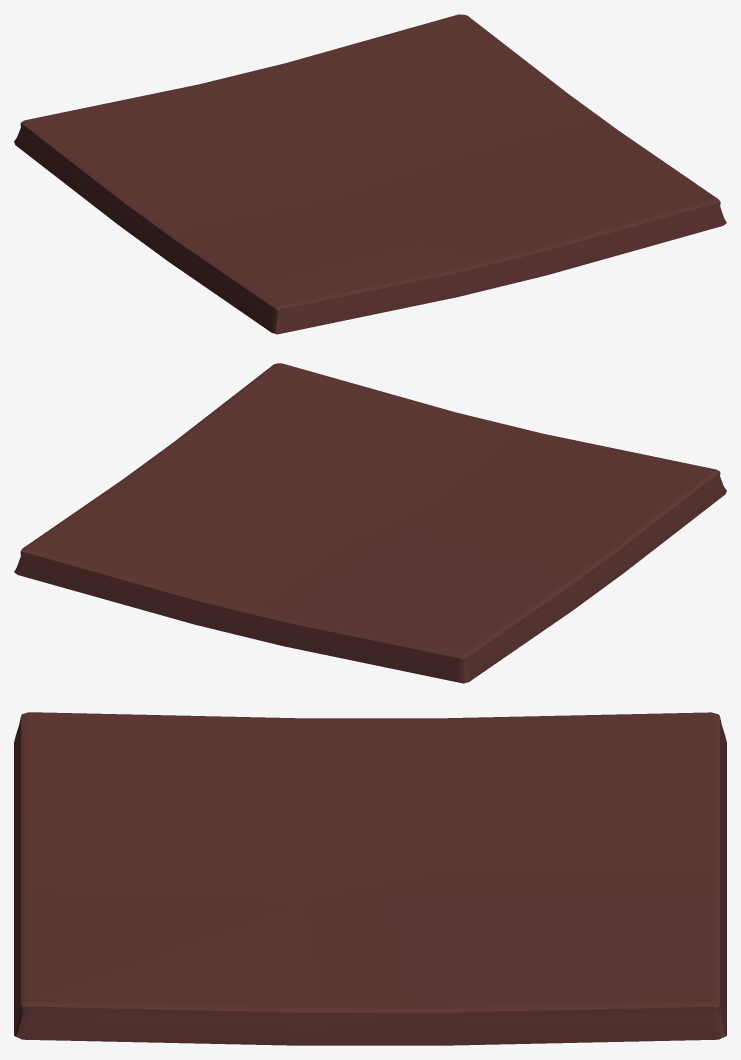
File: Cushion.fbx
3 renders of one model, top to bottom at view 1: azimuth 30°, elevation 25°; view 2: azimuth 150°, elevation 25°; view 3: azimuth 270°, elevation 25°, orthographic. The views are drawn at different scales.
Visible parts, largest first — view 1: Cushion; view 2: Cushion; view 3: Cushion.
Boxes of the visible parts, x1=… form: Cushion: x1=14, y1=14, x2=726, y2=334; Cushion: x1=14, y1=363, x2=726, y2=683; Cushion: x1=14, y1=712, x2=726, y2=1045.
Bounding box in the file's own units: 2.21 × 0.1762 × 2.22.
